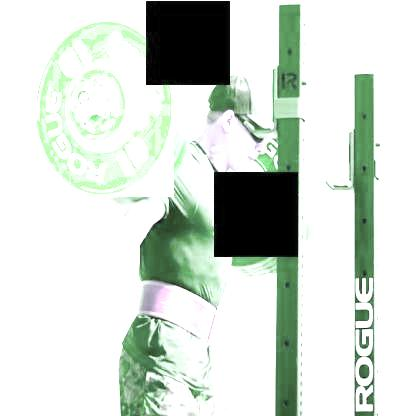barbell: (35, 20, 174, 197)
